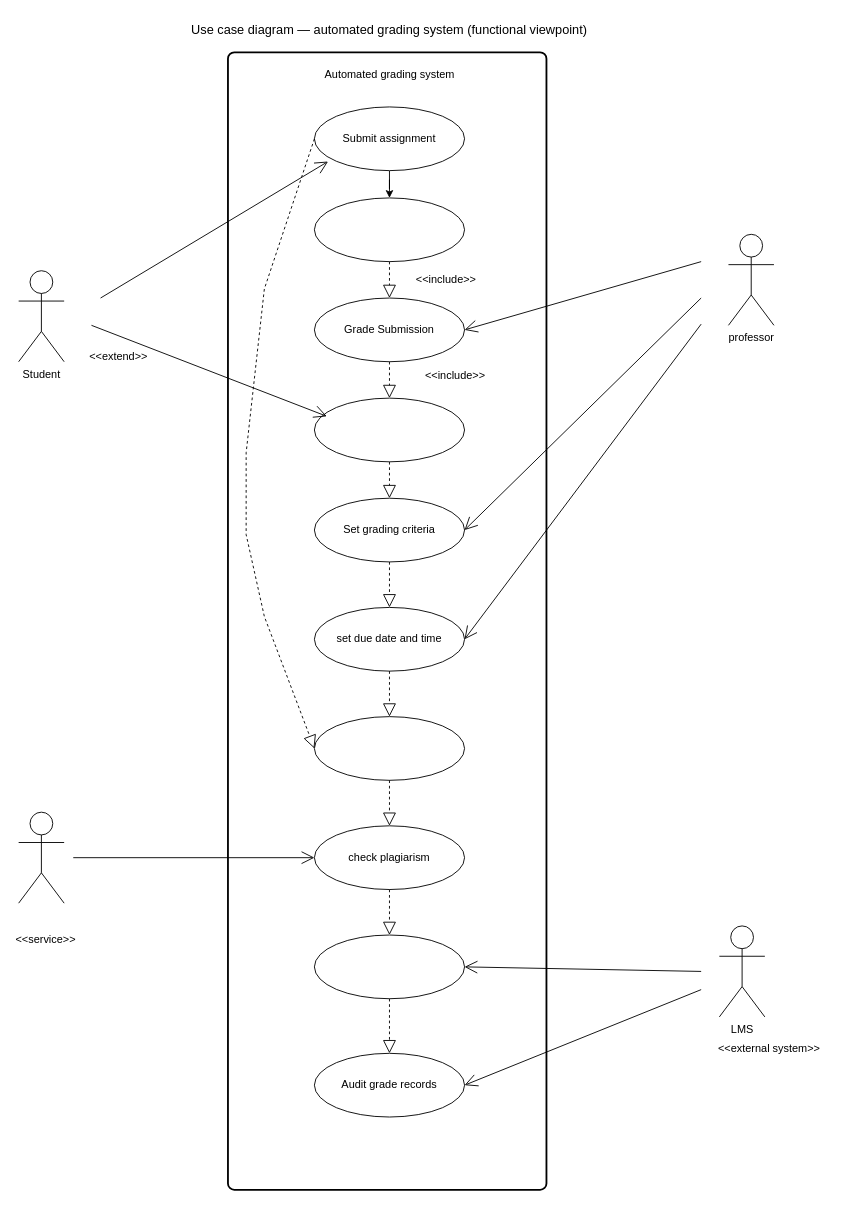
Image size: 844x1206. Some labels were removed from this diagram. The box of each missing label's shape, as (x1, y1, x2, y2) in pixels:
Reject late submission: (313, 716, 465, 780)
Run code automatically: (313, 197, 465, 262)
sync grade with LMS: (313, 934, 465, 999)
Turnitin: (18, 811, 64, 903)
View Grade and feedback: (313, 397, 465, 462)
